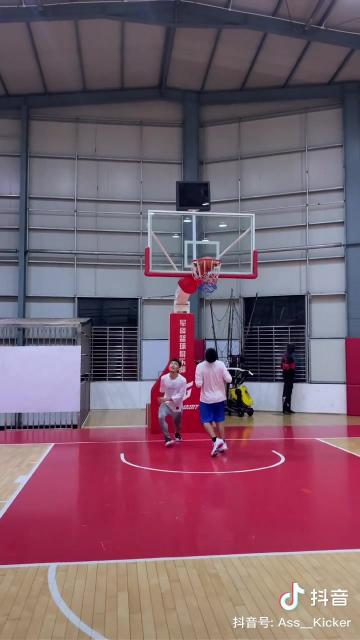basket: (190, 258, 221, 290)
goal: (198, 257, 214, 271)
